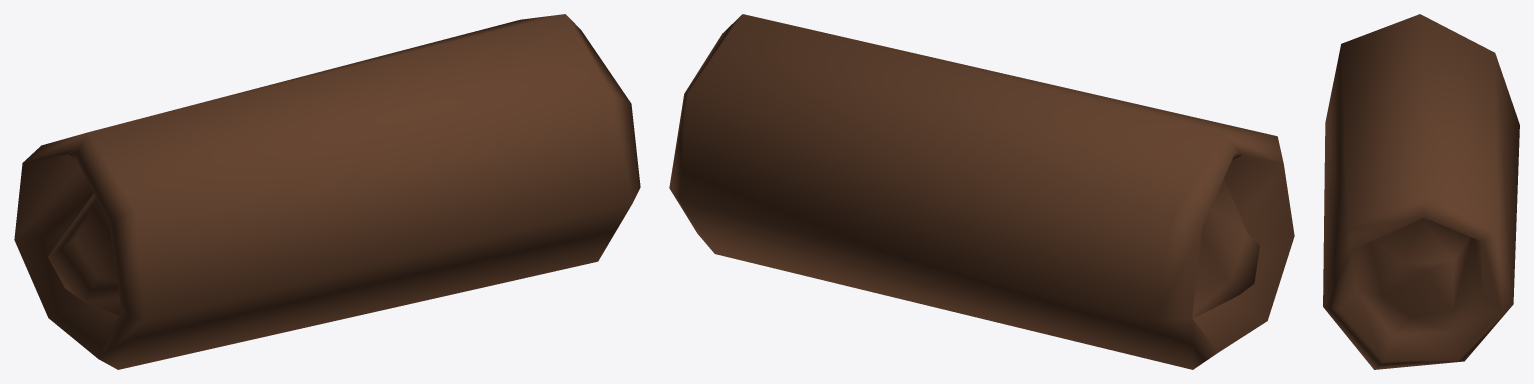
File: alpacaWoolskin.glb
The picture shows the model from 3 angles, left to right: view 1: azimuth 30°, elevation 25°; view 2: azimuth 150°, elevation 25°; view 3: azimuth 270°, elevation 25°; orthographic projection. The views are drawn at different scales.
Visible parts, largest first — view 1: Cube; view 2: Cube; view 3: Cube.
Part boxes in pixels (box(x1,y1,x2,y2)): Cube: box(14, 14, 640, 369); Cube: box(669, 14, 1294, 369); Cube: box(1323, 14, 1519, 369).
Size of the model in its own units: 0.7115 by 0.2928 by 0.2977.
